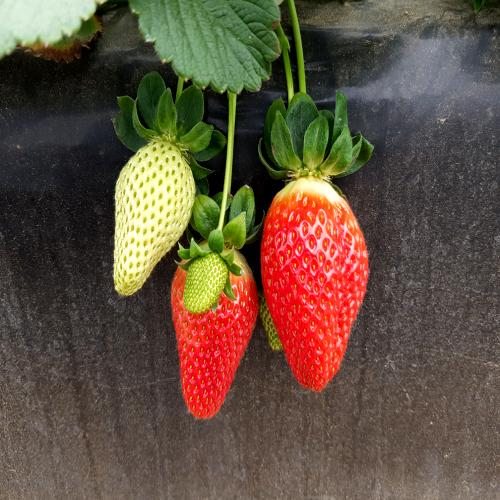ripe: (260, 161, 378, 409), (167, 266, 259, 435)
